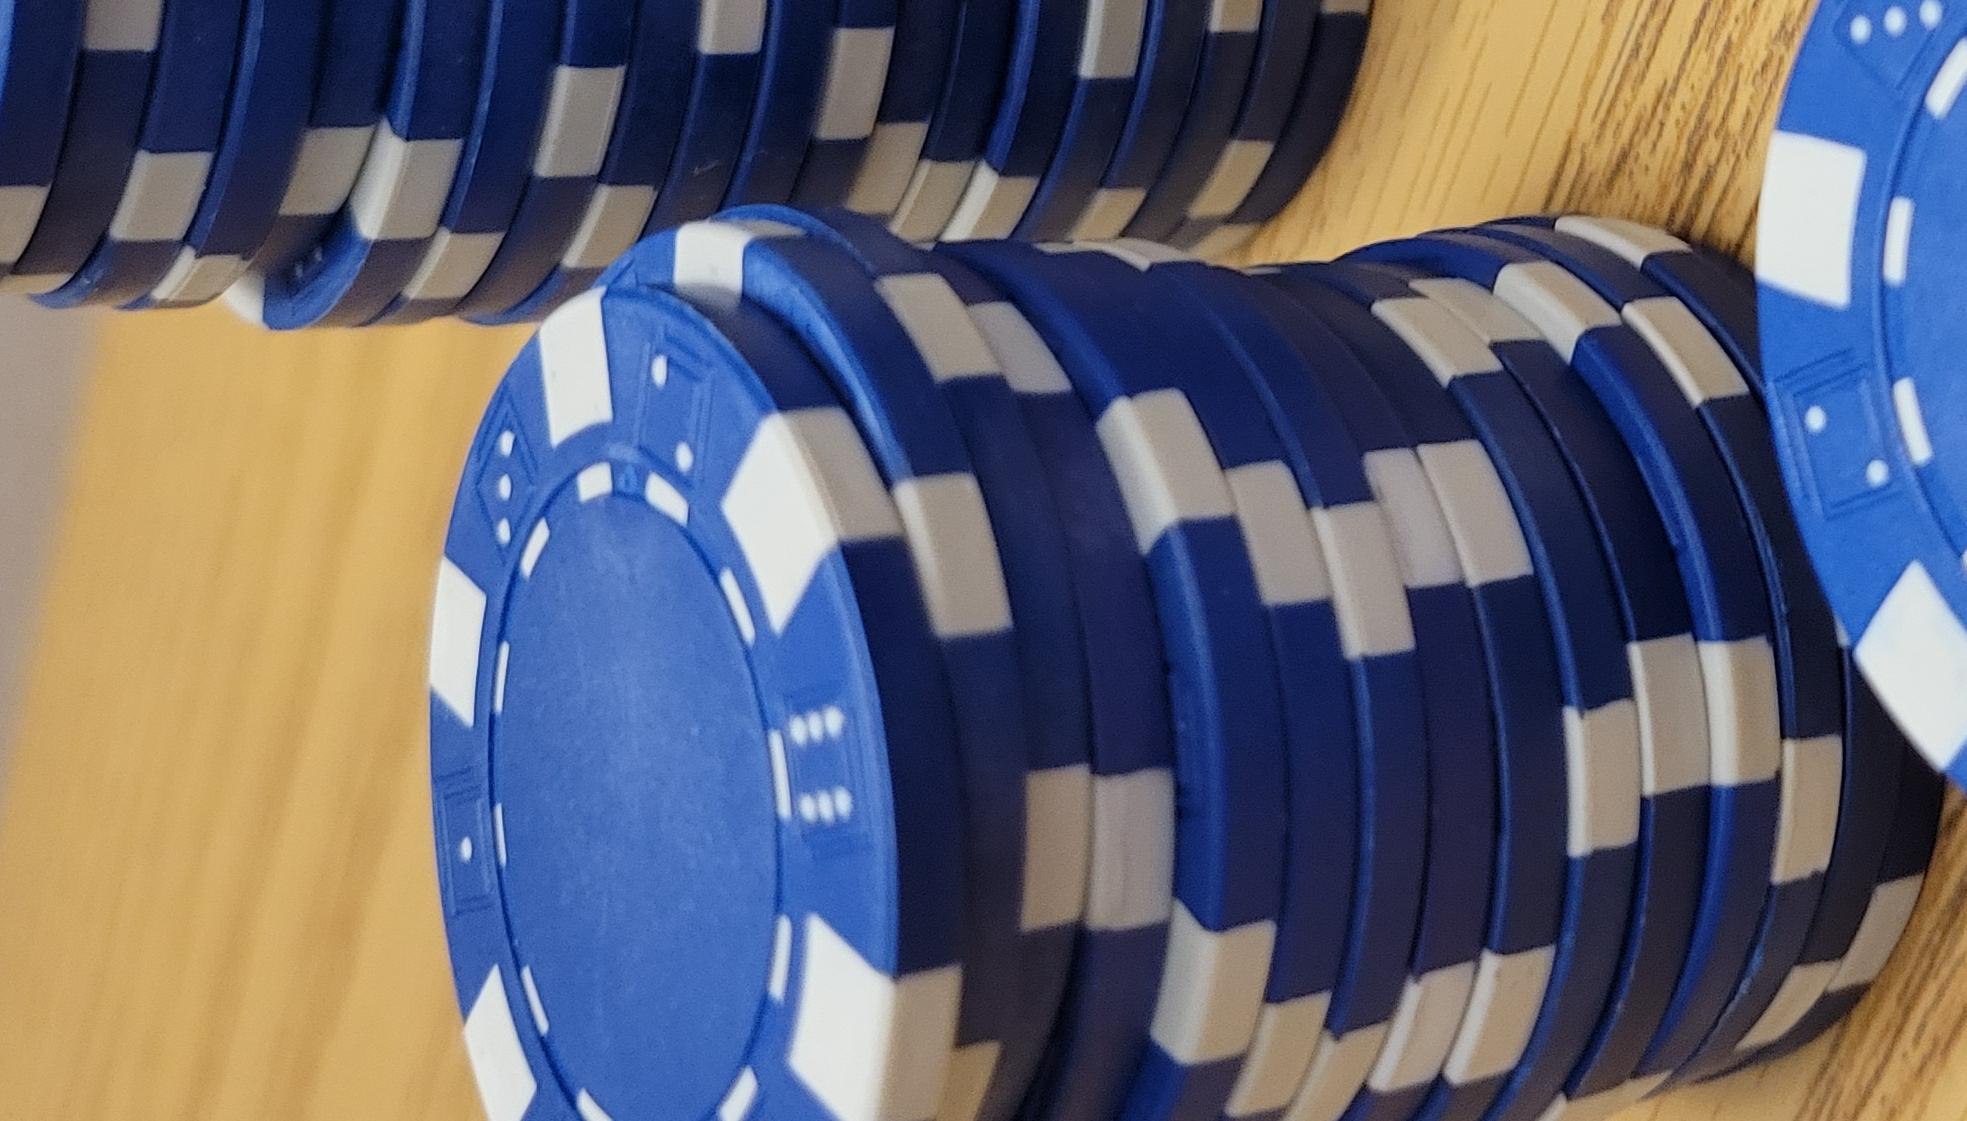Chip: (1, 528, 1358, 1121)
